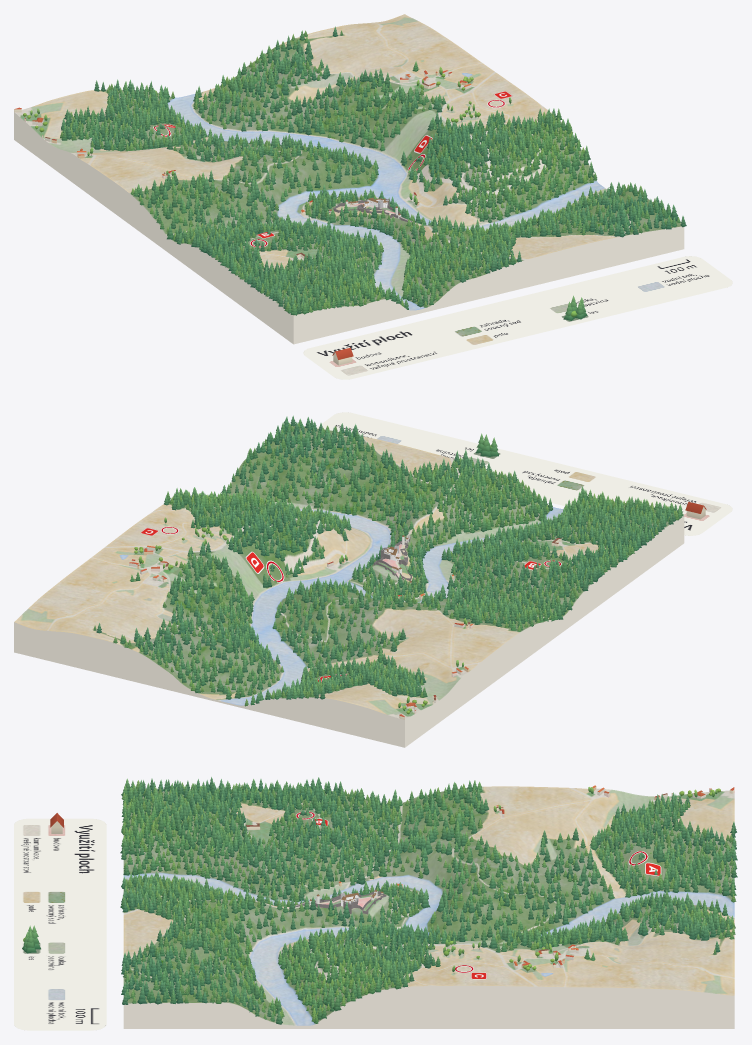
Rendered from Zvikov_sada1_SMO5.glb.
The picture shows the model from 3 angles, top to bottom: view 1: azimuth 30°, elevation 25°; view 2: azimuth 150°, elevation 25°; view 3: azimuth 270°, elevation 25°; orthographic projection. The views are drawn at different scales.
Visible parts, largest first — view 1: DMR_1953, Zvikov_stromy_body_SMO5, legenda_panel, Zvikov_SMO5_budovy, Node0, legenda_objekty; view 2: DMR_1953, Zvikov_stromy_body_SMO5, legenda_panel, Zvikov_SMO5_budovy, Node0, legenda_objekty; view 3: DMR_1953, Zvikov_stromy_body_SMO5, legenda_panel, Zvikov_SMO5_budovy, Node0, legenda_objekty.
Part boxes in pixels (bbox=[...]): DMR_1953: bbox=[14, 14, 684, 344]; Zvikov_stromy_body_SMO5: bbox=[23, 26, 686, 315]; legenda_panel: bbox=[303, 256, 732, 379]; Zvikov_SMO5_budovy: bbox=[14, 70, 471, 258]; Node0: bbox=[328, 197, 411, 222]; legenda_objekty: bbox=[332, 295, 587, 365]; DMR_1953: bbox=[14, 425, 684, 747]; Zvikov_stromy_body_SMO5: bbox=[93, 415, 683, 714]; legenda_panel: bbox=[316, 412, 732, 535]; Zvikov_SMO5_budovy: bbox=[129, 538, 561, 719]; Node0: bbox=[373, 535, 411, 583]; legenda_objekty: bbox=[476, 433, 706, 519]; DMR_1953: bbox=[123, 786, 734, 1028]; Zvikov_stromy_body_SMO5: bbox=[120, 777, 737, 1024]; legenda_panel: bbox=[14, 818, 106, 1030]; Zvikov_SMO5_budovy: bbox=[246, 785, 734, 968]; Node0: bbox=[295, 889, 386, 914]; legenda_objekty: bbox=[22, 813, 63, 953].
Size of the model in its own units: 1491 by 188 by 2151.
10 materials, 6 textured.
